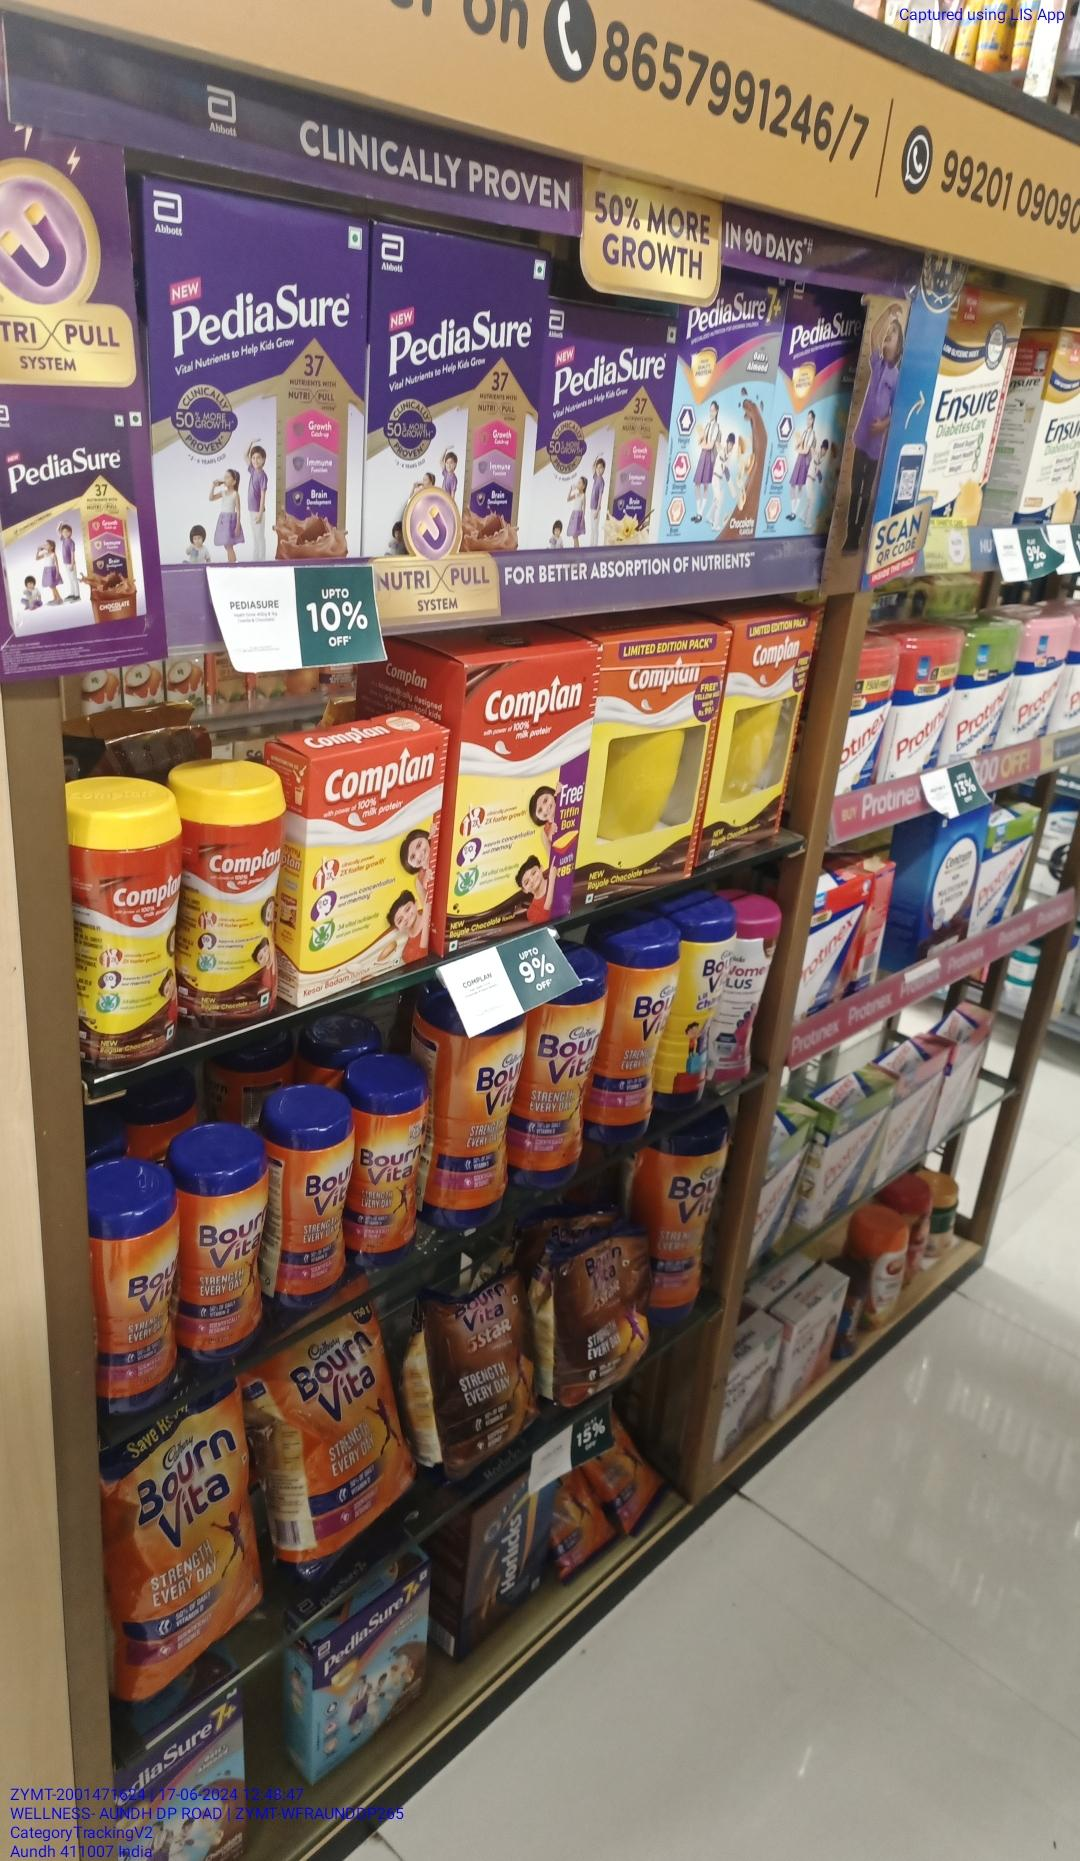PEDIASURE_7_PLUS_CHOCOLATE_400_G_PACK: (672, 294, 775, 540)
PEDIASURE_VANILLA_500_G_PACK: (540, 303, 667, 548)
